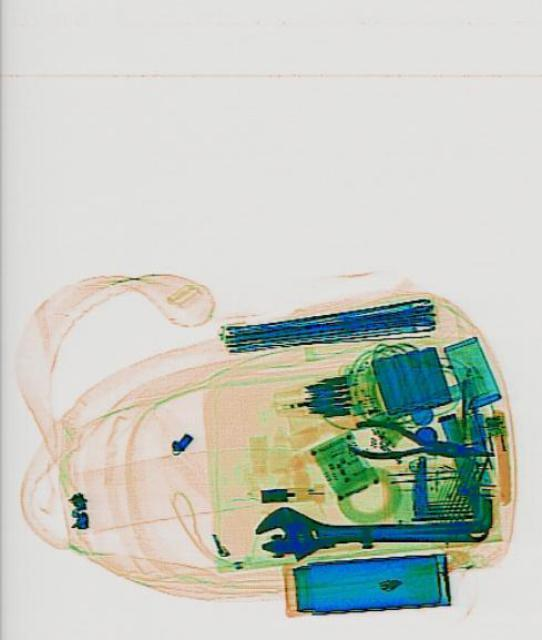Pliers: (342, 412, 493, 476)
Wrench: (251, 504, 485, 560)
